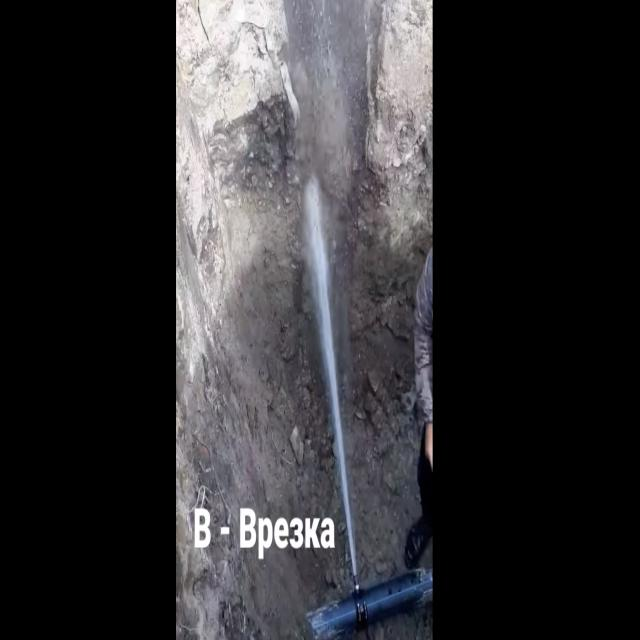leak: (304, 178, 359, 589)
